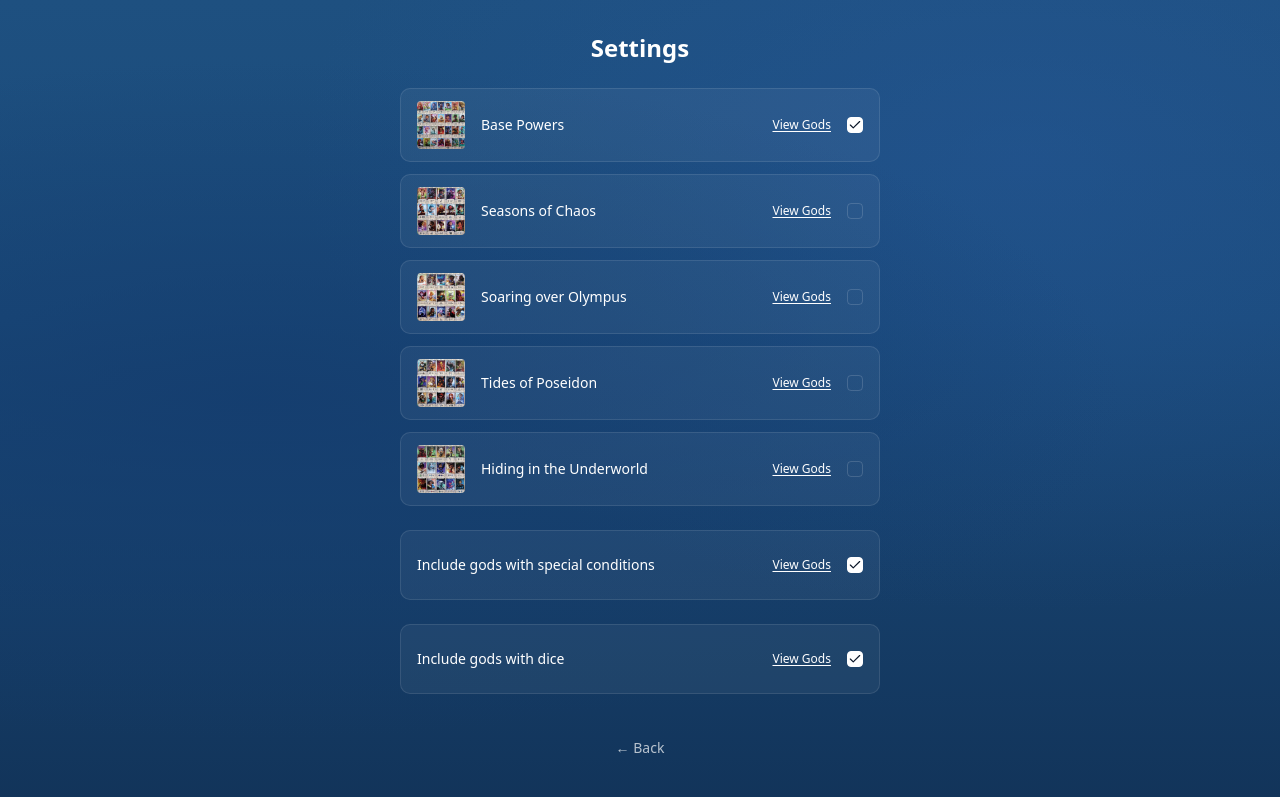
Test case: Given the settings screen when the user deselects all expansions › when the user unchecks the only active expansion, then a warning alert is shown
The image size is (1280, 797).
Click the checkbox named "toggle base powers" at (855, 125), box [847,117,863,133]
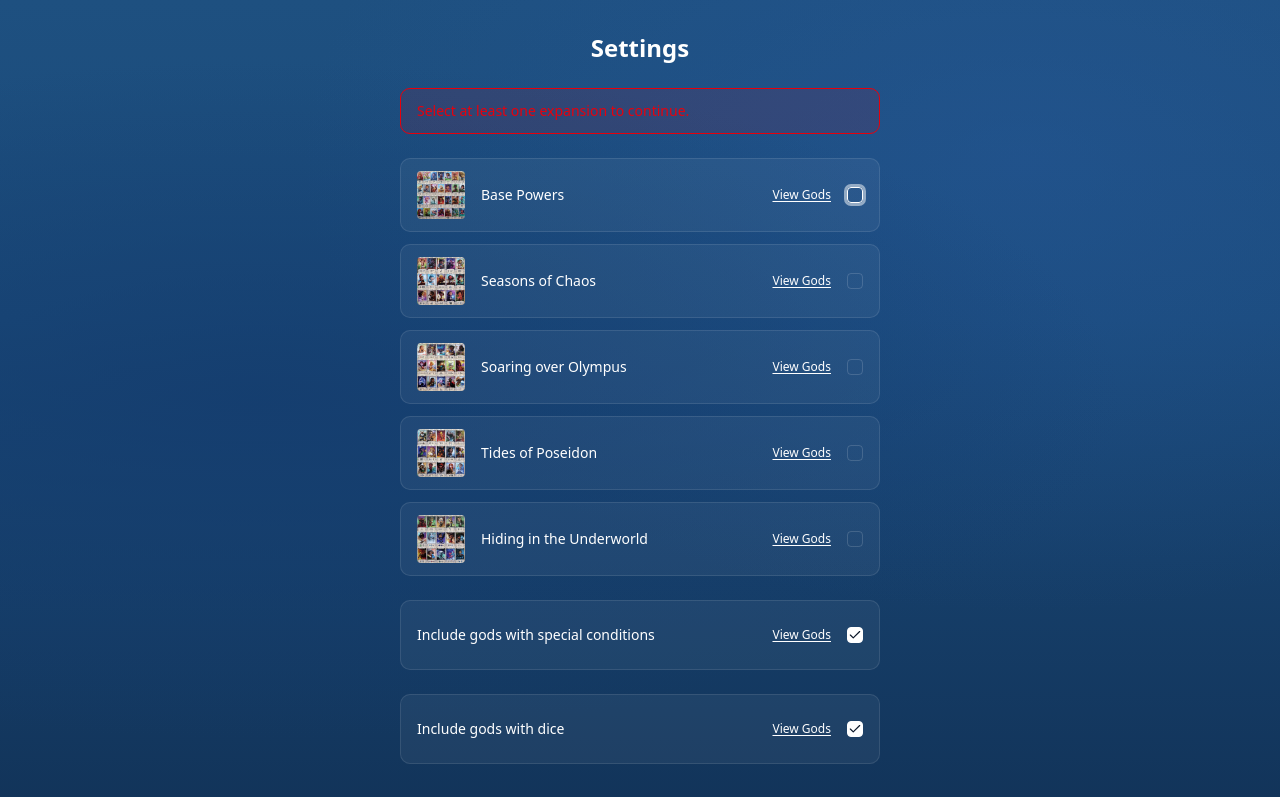
Check: the message "Select at least one expansion to continue." is shown, box [400,88,880,134]
